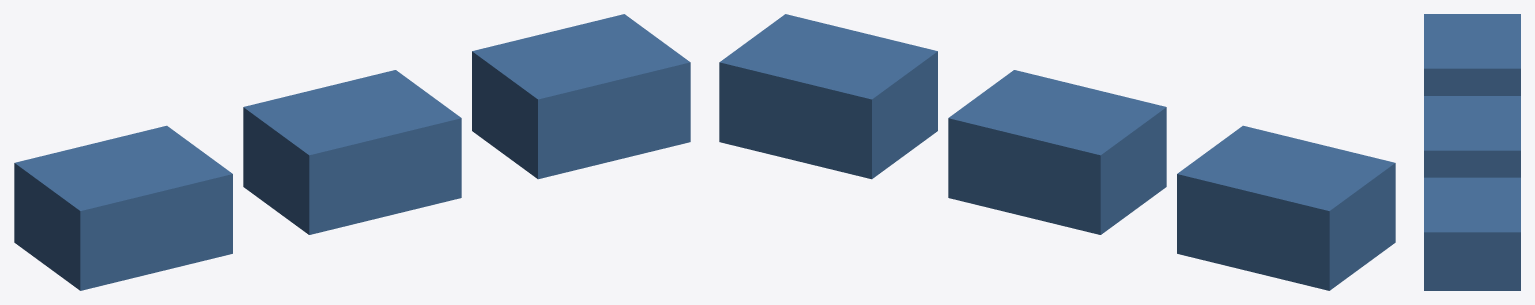
3 renders of one model, left to right at view 1: azimuth 30°, elevation 25°; view 2: azimuth 150°, elevation 25°; view 3: azimuth 270°, elevation 25°, orthographic. The views are drawn at different scales.
Visible parts, largest first — view 1: row-2, row-1, row-3; view 2: row-2, row-1, row-3; view 3: row-3, row-1, row-2.
Part boxes in pixels (<box>): row-2: <box>243,70,461,234</box>; row-1: <box>14,125,232,290</box>; row-3: <box>472,14,690,179</box>; row-2: <box>948,70,1166,234</box>; row-1: <box>1177,125,1395,290</box>; row-3: <box>719,14,937,179</box>; row-3: <box>1424,177,1520,290</box>; row-1: <box>1424,14,1520,95</box>; row-2: <box>1424,96,1520,177</box>.
Bounding box in the file's own units: 160 × 20 × 30.
